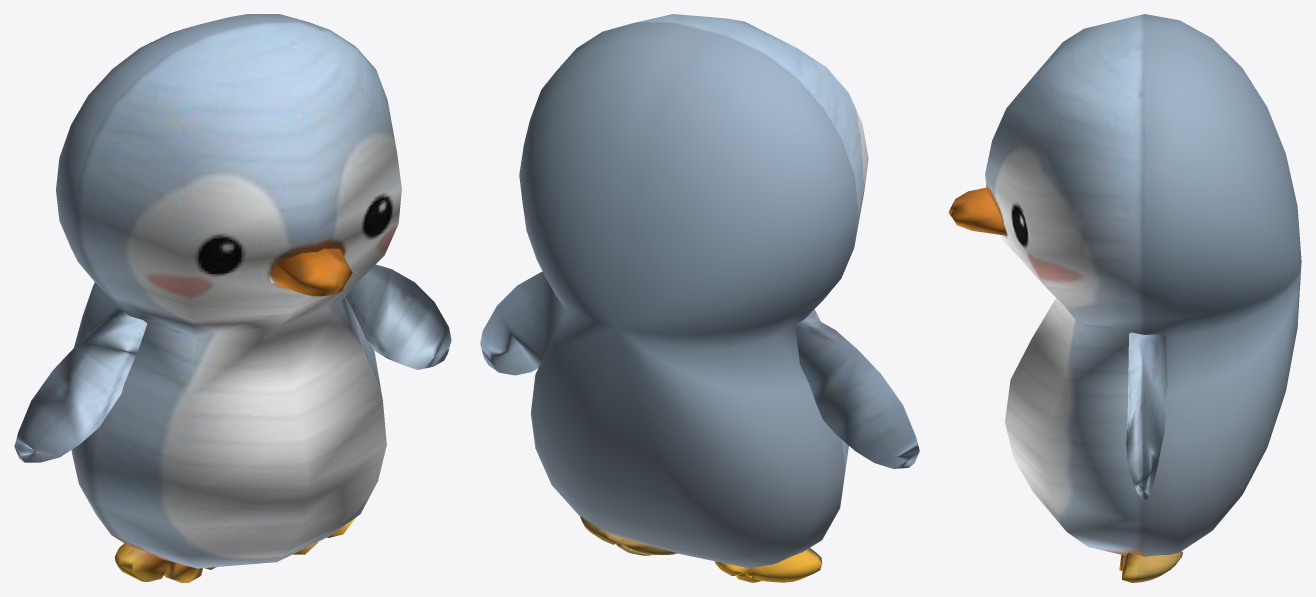
The model's file is penguin-04-13-baby-blue-crochet-penguin.gltf.
3 renders of one model, left to right at view 1: azimuth 30°, elevation 25°; view 2: azimuth 150°, elevation 25°; view 3: azimuth 270°, elevation 25°, orthographic. The views are drawn at different scales.
Parts seen in each view (by area): view 1: penguin-04-13-baby-blue-crochet-penguin; view 2: penguin-04-13-baby-blue-crochet-penguin; view 3: penguin-04-13-baby-blue-crochet-penguin.
Part boxes in pixels (x1,y1,x2,y2): penguin-04-13-baby-blue-crochet-penguin: (14,14,451,582); penguin-04-13-baby-blue-crochet-penguin: (480,14,919,582); penguin-04-13-baby-blue-crochet-penguin: (948,14,1301,582).
Bounding box in the file's own units: 0.2 × 0.2339 × 0.1463.
1 material, 1 textured.
